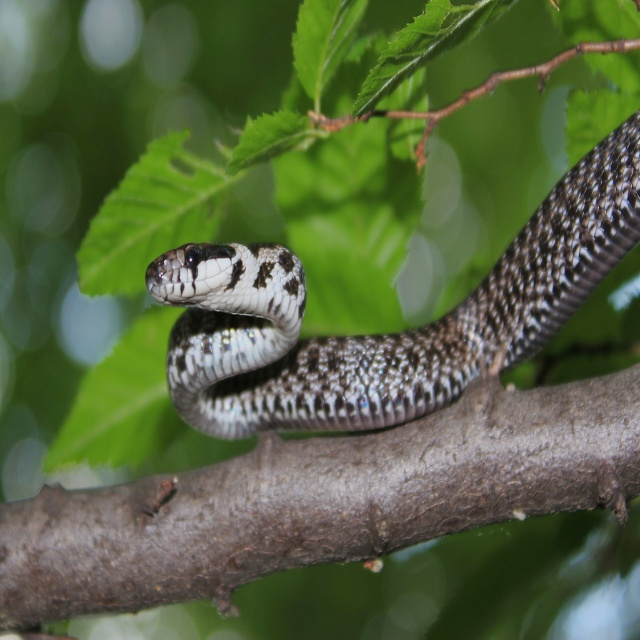Snake: (142, 99, 640, 429)
